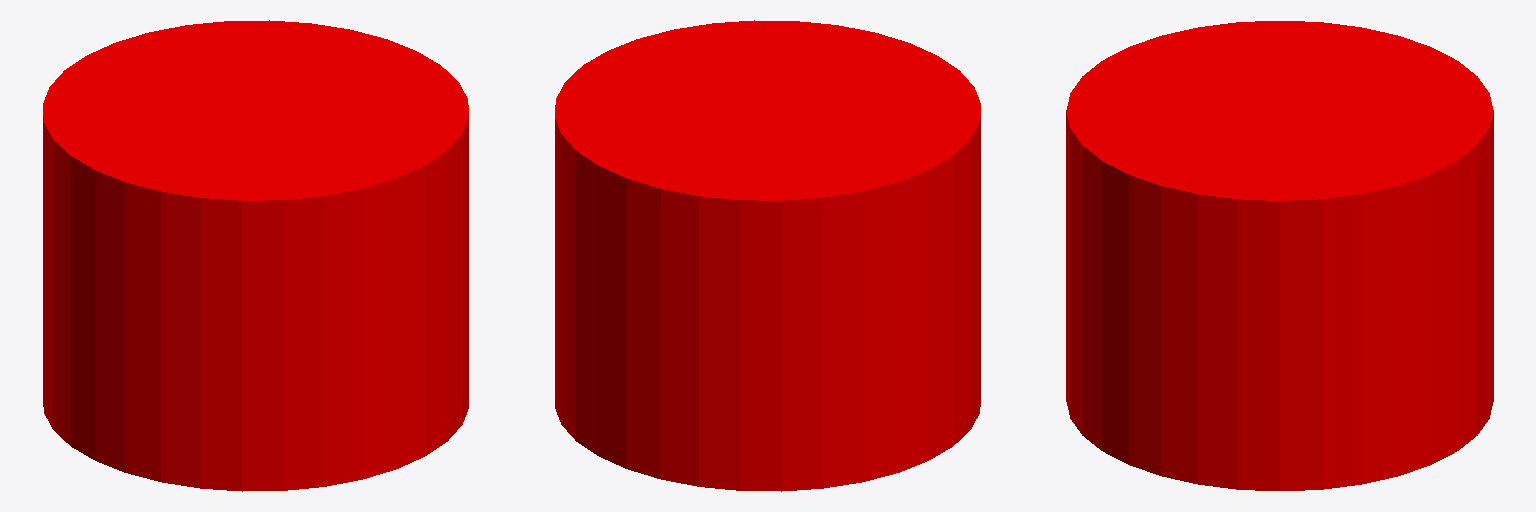
URDF robot description (cylinder):
<?xml version="0.0" ?>
<robot name="cylinder">
  <link name="base_link">
    <inertial>
      <mass value="100.0"/>
      <origin rpy="0 0 0" xyz="0 0 0"/>
      <inertia ixx="1.0" ixy="0.0" ixz="0.0" iyy="1.0" iyz="0.0" izz="1.0"/>
    </inertial>
    <collision>
      <origin rpy="0.0 0 0" xyz="0 0 0"/>
      <geometry>
          <cylinder length="0.3" radius="0.2"/>
      </geometry>
    </collision>
    <visual>
      <origin rpy="0.0 0 0" xyz="0 0 0"/>
      <geometry>
          <cylinder length="0.3" radius="0.2"/>
      </geometry>
      <material name="red">
        <color rgba="1.0 0.0 0.0 1.0"/>
      </material>
    </visual>
  </link>
</robot>

--- What the picture shows (computed from the rendered views, not written in the file) ---
The picture shows the robot from 3 angles, left to right: view 1: azimuth 30°, elevation 25°; view 2: azimuth 150°, elevation 25°; view 3: azimuth 270°, elevation 25°; orthographic projection.
Model cylinder with 1 links and 0 joints (none), rooted at base_link, posed all joints at 0.
Links seen in each view (by area): view 1: base_link; view 2: base_link; view 3: base_link.
Link boxes in pixels (x1,y1,x2,y2): base_link: [43, 20, 468, 491]; base_link: [555, 20, 980, 491]; base_link: [1066, 21, 1493, 490].
Size in the robot's own frame: 0.4 by 0.4 by 0.3 metres.
Geometry: primitives only (box / cylinder / sphere), no mesh files.